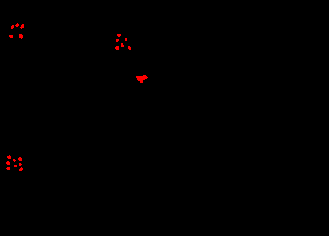Target: (136, 75, 148, 83), (20, 24, 24, 29), (19, 34, 23, 39), (15, 23, 19, 27), (115, 46, 119, 50), (7, 155, 11, 159), (18, 157, 22, 161), (6, 161, 10, 165), (19, 167, 23, 171), (11, 25, 14, 29), (117, 34, 121, 37), (9, 35, 13, 38), (121, 43, 124, 47), (128, 46, 131, 50), (6, 167, 10, 170), (116, 39, 119, 42), (13, 159, 16, 162), (19, 163, 22, 166), (125, 38, 127, 41), (14, 165, 17, 167)
